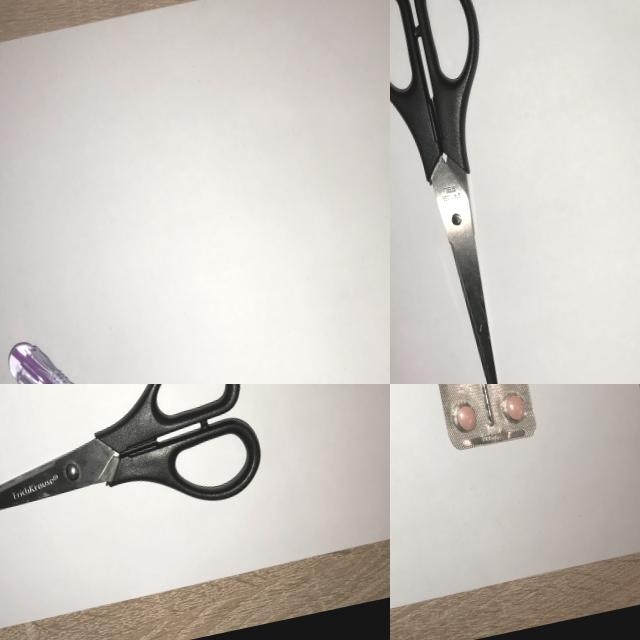scissors: (390, 0, 564, 384), (0, 384, 277, 567)
screwdriver: (0, 308, 184, 384)
tablets: (390, 384, 545, 462)
